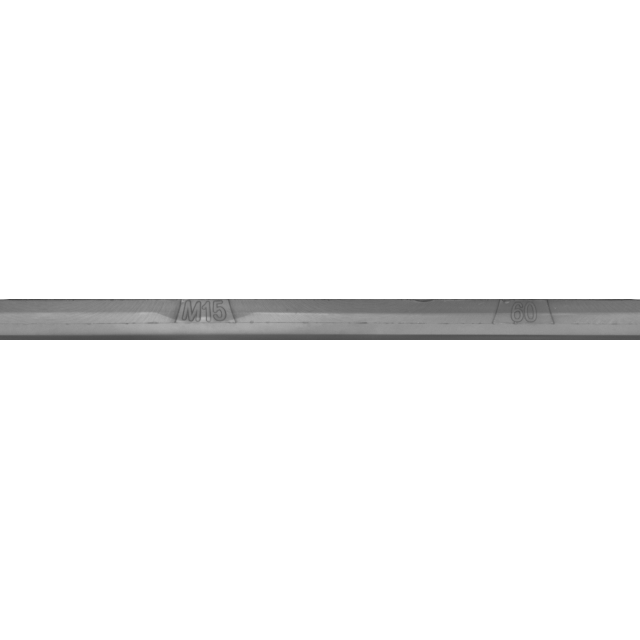mohao: (110, 270, 310, 370)
xuehao: (422, 270, 622, 370)
